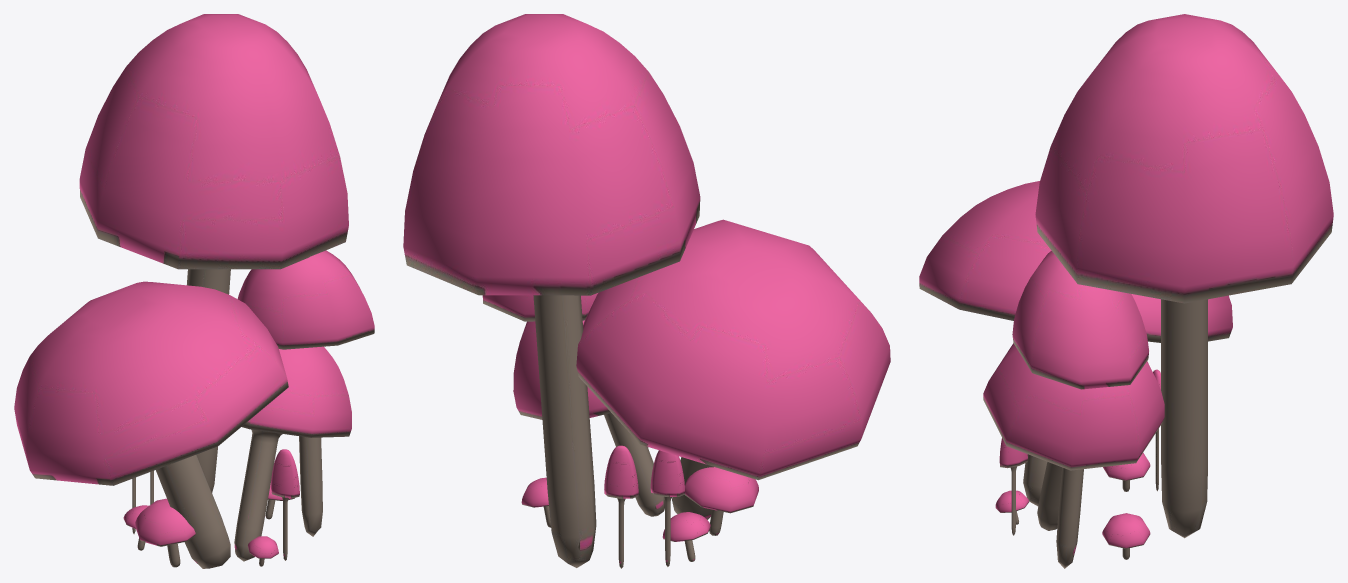
File: PinkMushroomCluster.fbx
The picture shows the model from 3 angles, left to right: view 1: azimuth 30°, elevation 25°; view 2: azimuth 150°, elevation 25°; view 3: azimuth 270°, elevation 25°; orthographic projection. The views are drawn at different scales.
Parts seen in each view (by area): view 1: MushroomCluster.001; view 2: MushroomCluster.001; view 3: MushroomCluster.001.
Part boxes in pixels (x1,y1,x2,y2): MushroomCluster.001: (14, 14, 374, 568); MushroomCluster.001: (403, 14, 890, 568); MushroomCluster.001: (919, 14, 1333, 568).
Size of the model in its own units: 219 by 290 by 207.
